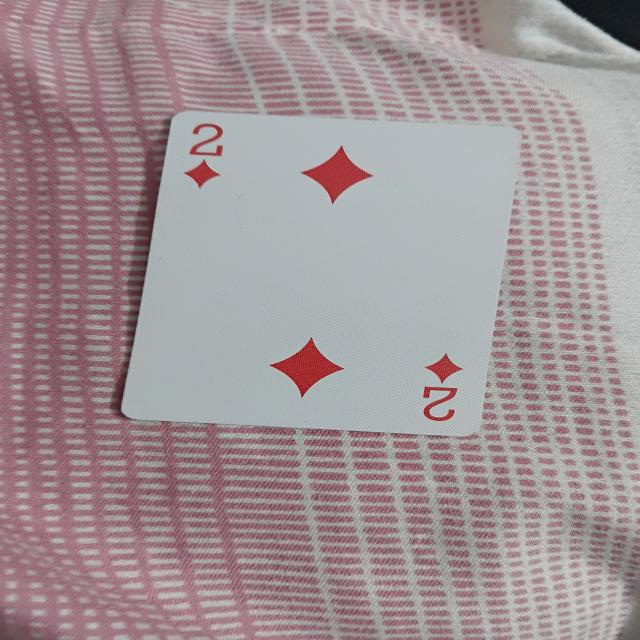2D: (125, 111, 518, 430)
